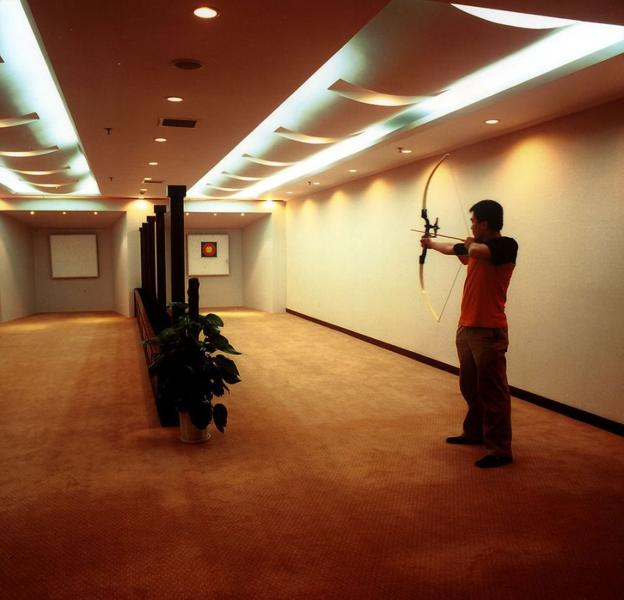person: (419, 201, 522, 468)
